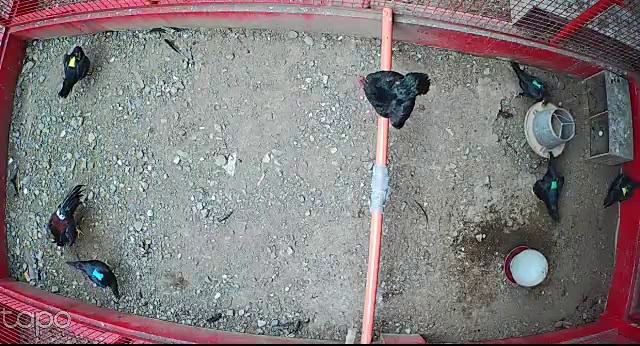Chicken: (356, 65, 433, 132), (530, 149, 567, 226), (66, 255, 122, 301), (601, 167, 640, 226), (506, 60, 551, 108), (57, 47, 95, 100)
Drinker: (504, 246, 550, 290)
Feeder: (523, 100, 577, 159)
Rooster: (44, 180, 92, 249)
Saddle_Color_Blue: (90, 267, 107, 282)
Saddle_Color_Bluegreen: (533, 80, 542, 88)
Saddle_Color_Green: (551, 181, 558, 188)
Saddle_Color_Yellow: (67, 56, 78, 67)
